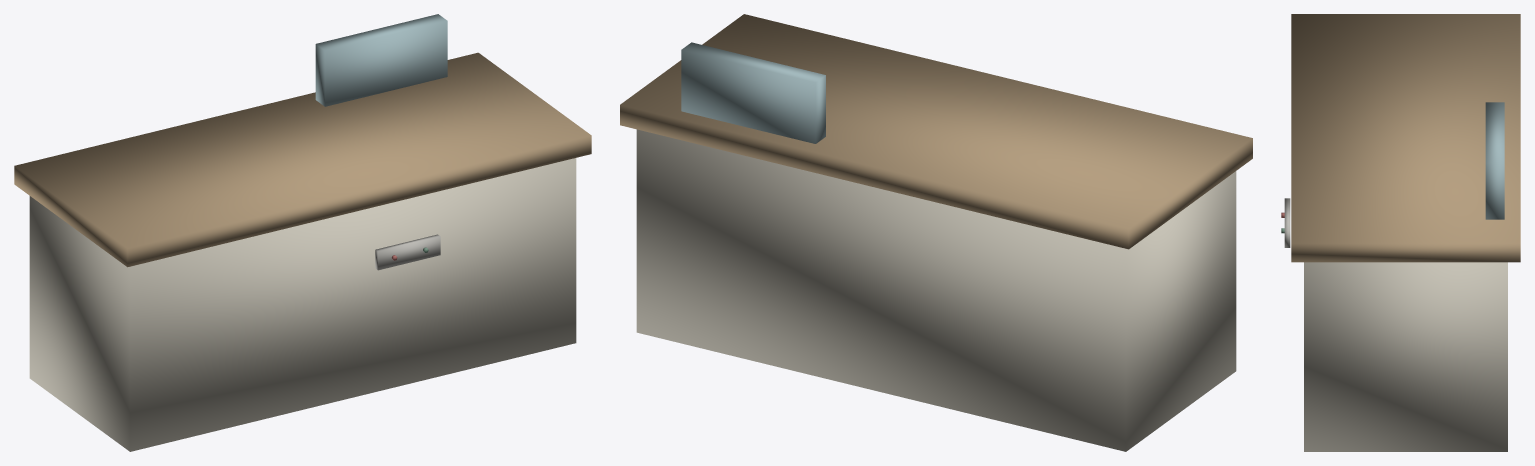
The model's file is pharmacy_pickup_counter__deep.glb.
The picture shows the model from 3 angles, left to right: view 1: azimuth 30°, elevation 25°; view 2: azimuth 150°, elevation 25°; view 3: azimuth 270°, elevation 25°; orthographic projection. The views are drawn at different scales.
Visible parts, largest first — view 1: world; view 2: world; view 3: world.
Part boxes in pixels (box(x1,y1,x2,y2)): world: box(14, 14, 591, 451); world: box(620, 14, 1252, 451); world: box(1281, 14, 1520, 451).
Bounding box in the file's own units: 2.08 × 1.14 × 0.9162.
